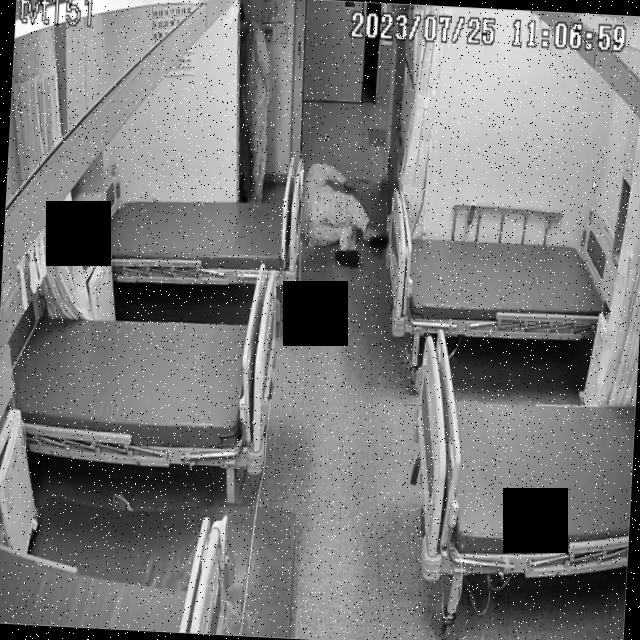bed: (406, 330, 640, 586), (7, 302, 278, 468), (381, 216, 621, 348), (107, 182, 301, 290)
fall: (298, 155, 392, 273)
patient: (300, 156, 389, 271), (233, 0, 277, 202)
